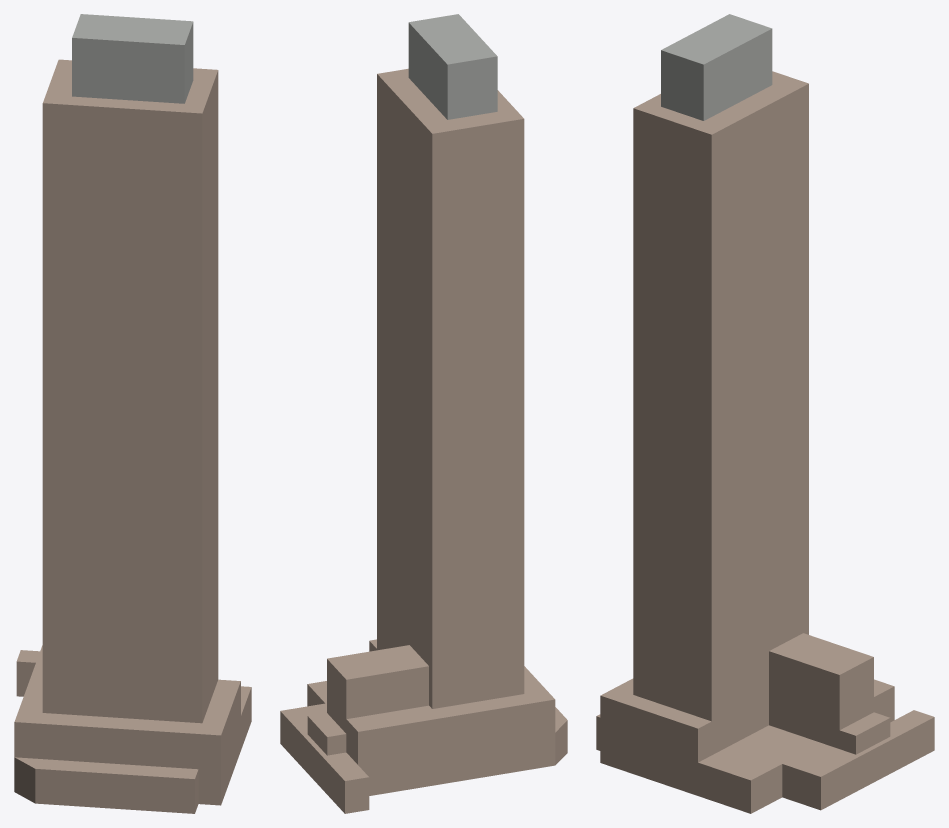
The model's file is square-one-block5-t1-plan-derived.glb.
3 renders of one model, left to right at view 1: azimuth 30°, elevation 25°; view 2: azimuth 150°, elevation 25°; view 3: azimuth 270°, elevation 25°, orthographic. The views are drawn at different scales.
Visible parts, largest first — view 1: sq1-t1-tower, sq1-t1-north-podium, sq1-t1-base, sq1-t1-mechanical; view 2: sq1-t1-tower, sq1-t1-base, sq1-t1-north-podium, sq1-t1-mechanical, sq1-t1-east-podium, sq1-t1-east-transition; view 3: sq1-t1-tower, sq1-t1-base, sq1-t1-east-podium, sq1-t1-mechanical, sq1-t1-north-podium, sq1-t1-east-transition.
Boxes of the visible parts, x1,y1,x2,y2 form: sq1-t1-tower: (42,59,218,723); sq1-t1-north-podium: (14,645,240,770); sq1-t1-base: (14,650,251,813); sq1-t1-mechanical: (72,14,193,103); sq1-t1-tower: (377,68,524,708); sq1-t1-base: (280,681,567,813); sq1-t1-north-podium: (346,639,555,764); sq1-t1-mechanical: (408,14,497,119); sq1-t1-east-podium: (327,645,428,733); sq1-t1-east-transition: (307,713,346,755); sq1-t1-tower: (633,71,808,754); sq1-t1-base: (596,710,934,813); sq1-t1-east-podium: (769,633,873,748); sq1-t1-mechanical: (661,14,772,120); sq1-t1-north-podium: (600,678,894,762); sq1-t1-east-transition: (839,712,890,754).
Bounding box in the file's own units: 60.1 × 170 × 73.27.
